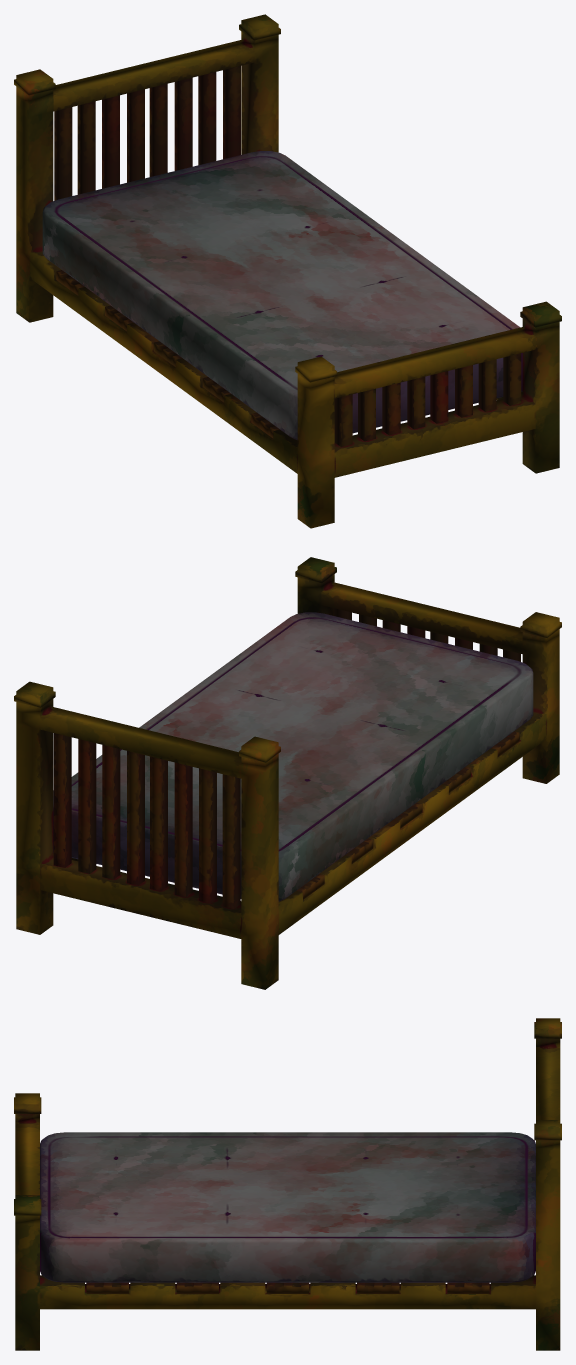
The model's file is cama.glb.
3 renders of one model, top to bottom at view 1: azimuth 30°, elevation 25°; view 2: azimuth 150°, elevation 25°; view 3: azimuth 270°, elevation 25°, orthographic. The views are drawn at different scales.
Visible parts, largest first — view 1: Bed_Low; view 2: Bed_Low; view 3: Bed_Low.
Boxes of the visible parts, x1,y1,x2,y2 form: Bed_Low: (14, 14, 561, 528); Bed_Low: (14, 557, 561, 989); Bed_Low: (14, 1018, 561, 1350).
Bounding box in the file's own units: 120 × 108 × 244.
1 material, 1 textured.
